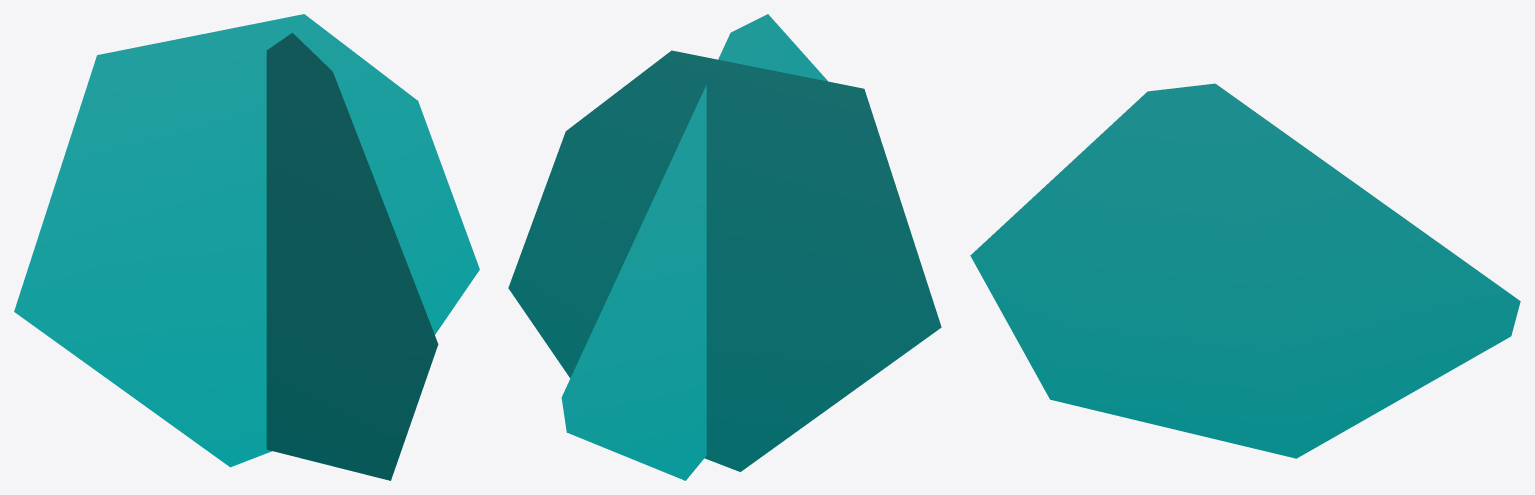
Rendered from Downy_Willow_wknlfiuqx_Mid_wknlfiuqx_VarC_LOD3.fbx.
The picture shows the model from 3 angles, left to right: view 1: azimuth 30°, elevation 25°; view 2: azimuth 150°, elevation 25°; view 3: azimuth 270°, elevation 25°; orthographic projection. The views are drawn at different scales.
Parts seen in each view (by area): view 1: _u7ct_VarC_LOD6; view 2: _u7ct_VarC_LOD6; view 3: _u7ct_VarC_LOD6.
Boxes of the visible parts, x1,y1,x2,y2 form: _u7ct_VarC_LOD6: (14, 14, 479, 480); _u7ct_VarC_LOD6: (508, 14, 941, 480); _u7ct_VarC_LOD6: (970, 83, 1520, 458).
Size of the model in its own units: 76.22 by 69.81 by 92.82.
